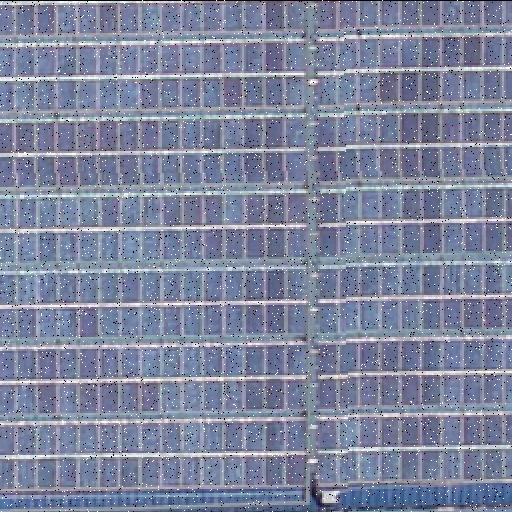solar-panel: (0, 417, 304, 495), (0, 39, 304, 113), (0, 115, 304, 189), (0, 267, 304, 341), (0, 190, 304, 262), (0, 344, 304, 416), (313, 34, 511, 106), (313, 110, 511, 182), (316, 336, 512, 408), (313, 185, 511, 255), (316, 261, 512, 331), (316, 413, 512, 483), (0, 1, 304, 39), (313, 1, 511, 31)
